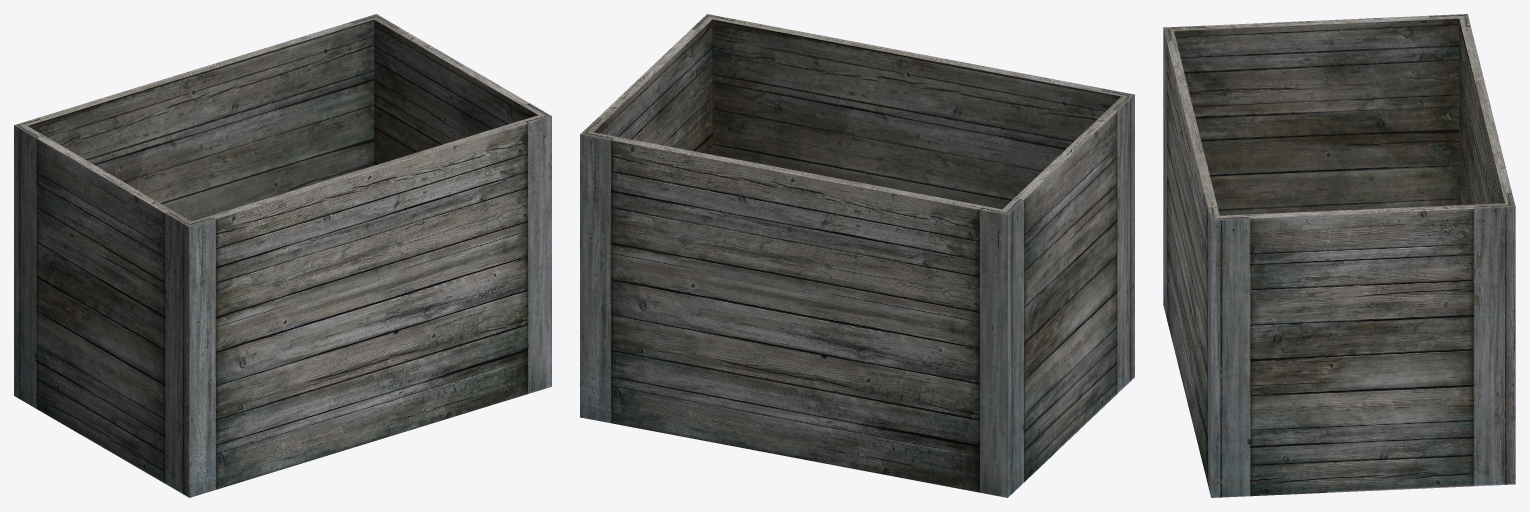
The model's file is box_wood_open.fbx.
The picture shows the model from 3 angles, left to right: view 1: azimuth 30°, elevation 25°; view 2: azimuth 150°, elevation 25°; view 3: azimuth 270°, elevation 25°; orthographic projection. The views are drawn at different scales.
Parts seen in each view (by area): view 1: box_wood_open; view 2: box_wood_open; view 3: box_wood_open.
Boxes of the visible parts, bbox=[...] form: box_wood_open: bbox=[14, 14, 551, 497]; box_wood_open: bbox=[580, 14, 1134, 497]; box_wood_open: bbox=[1163, 14, 1515, 497].
Bounding box in the file's own units: 70.77 × 44.36 × 51.03.
Materials: 1 (1 with a texture image).
